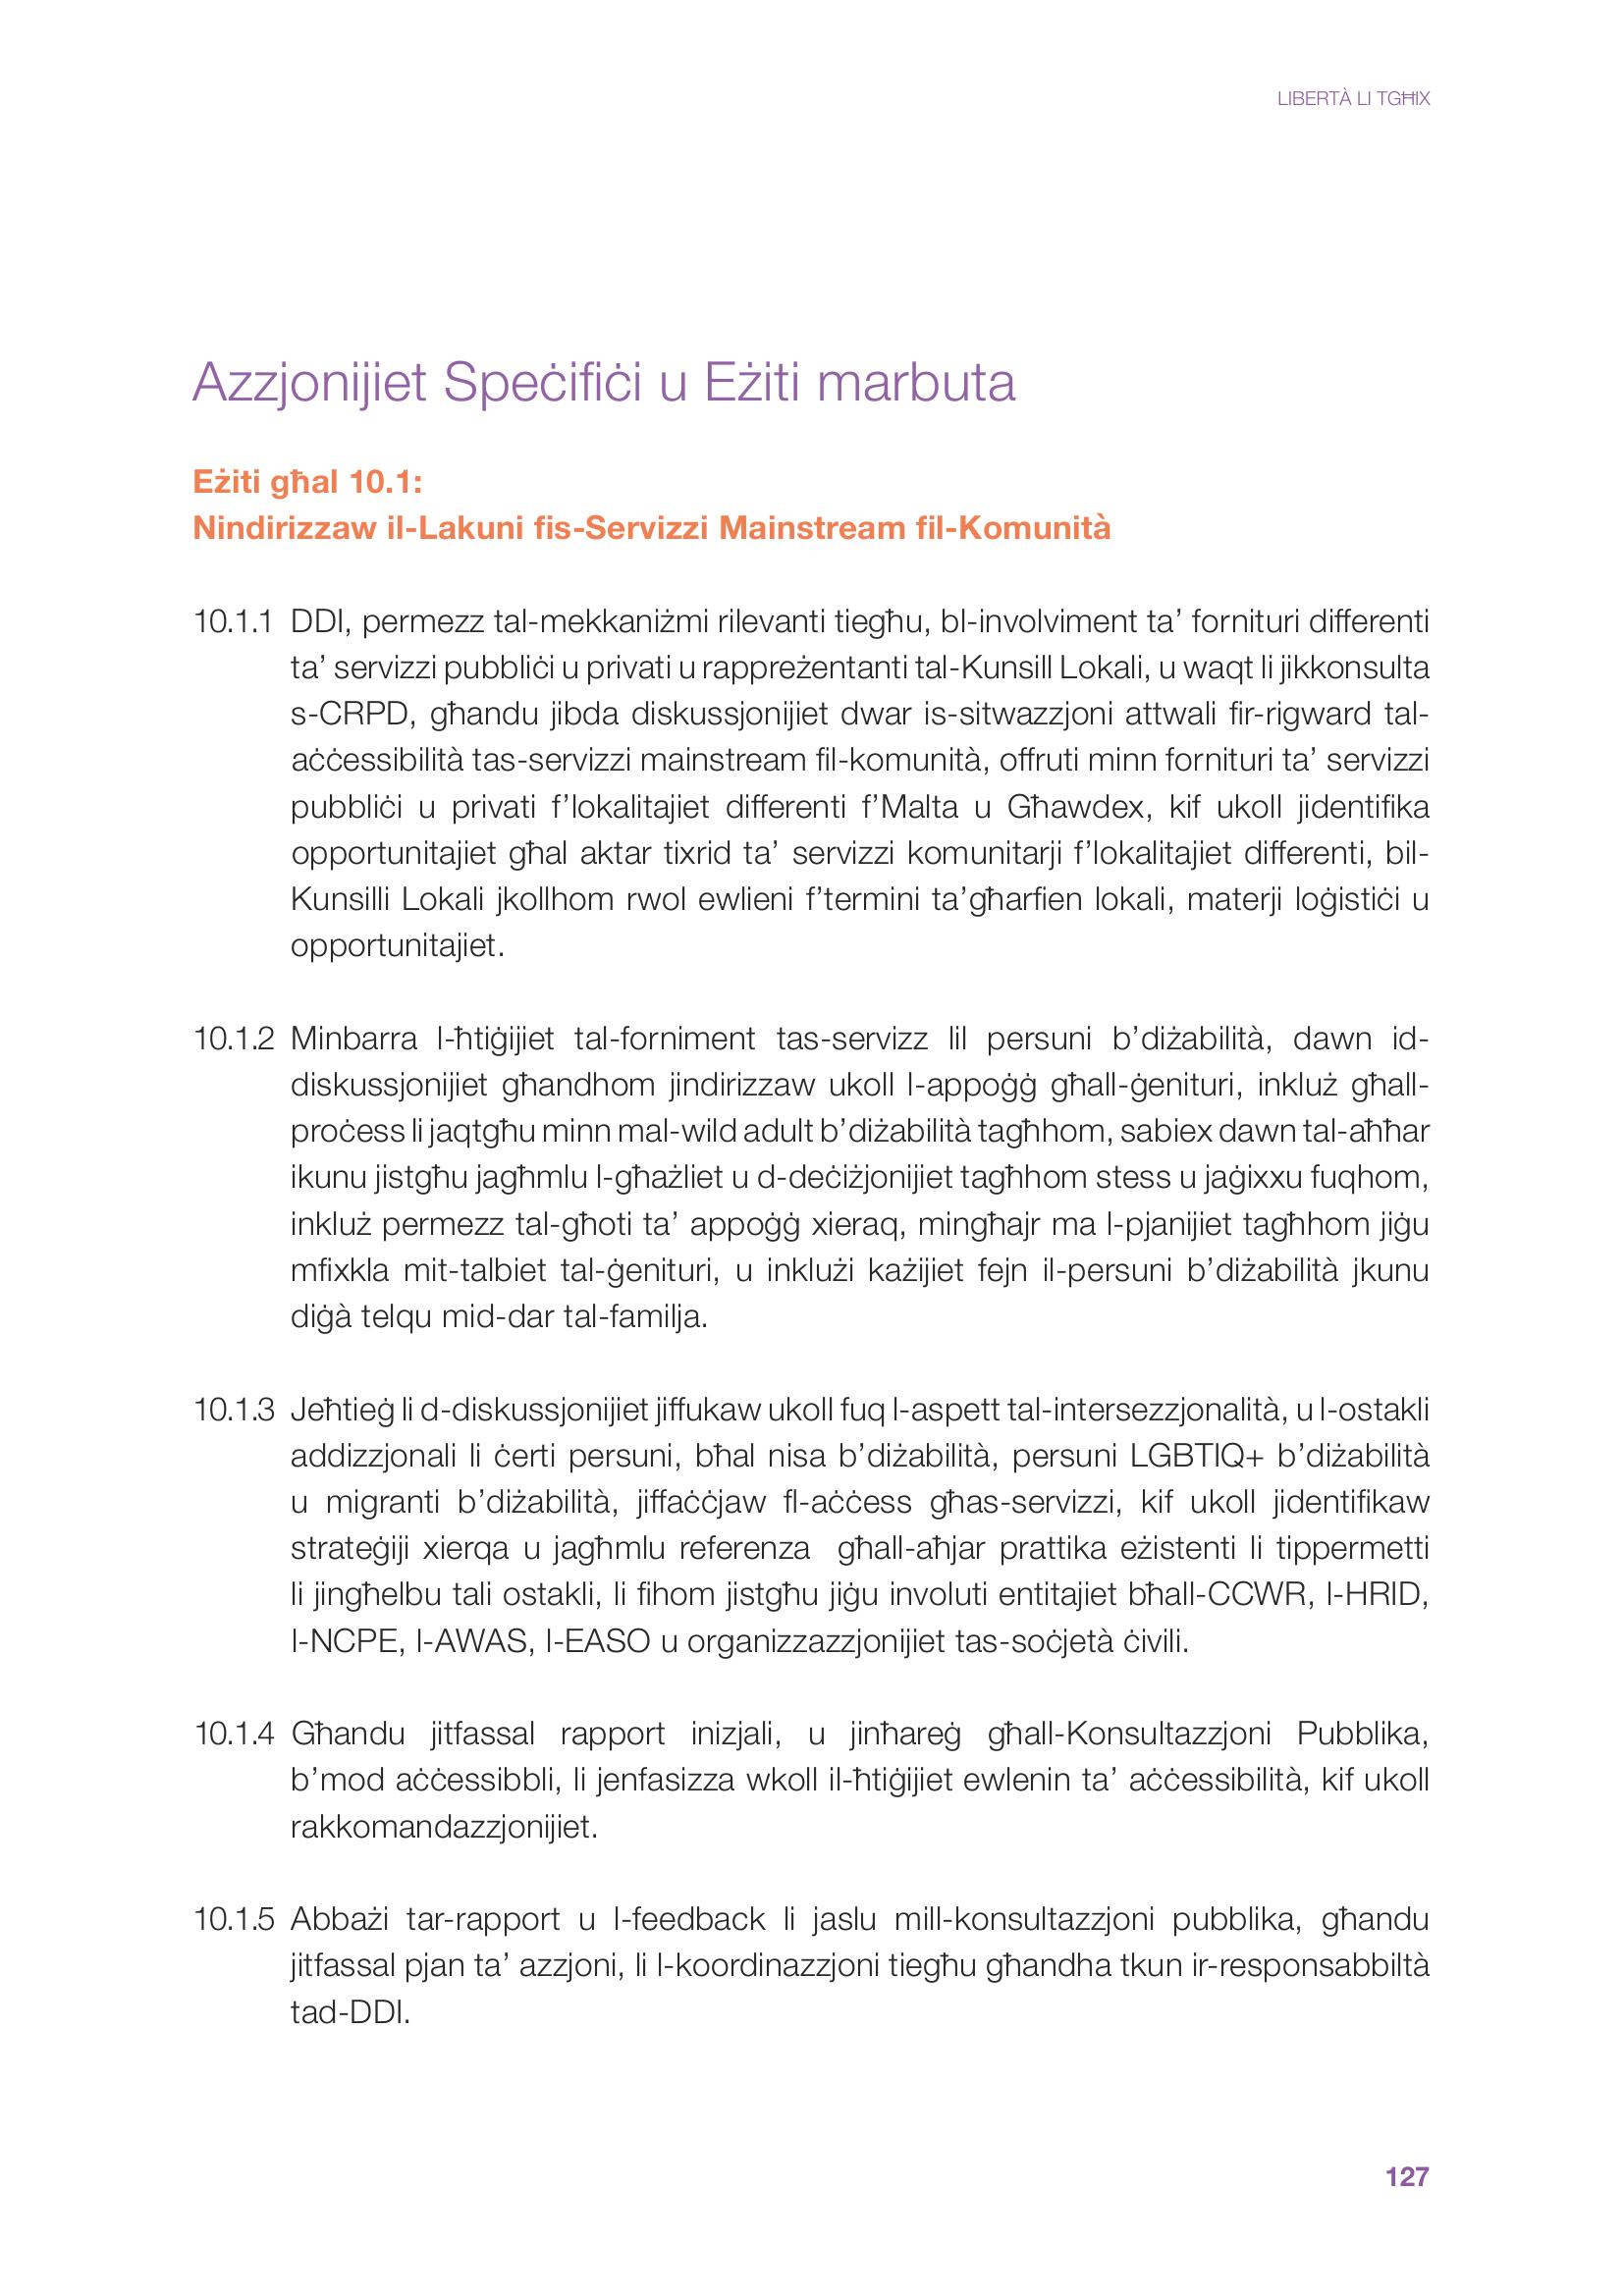text: (163, 334, 1471, 2059)
